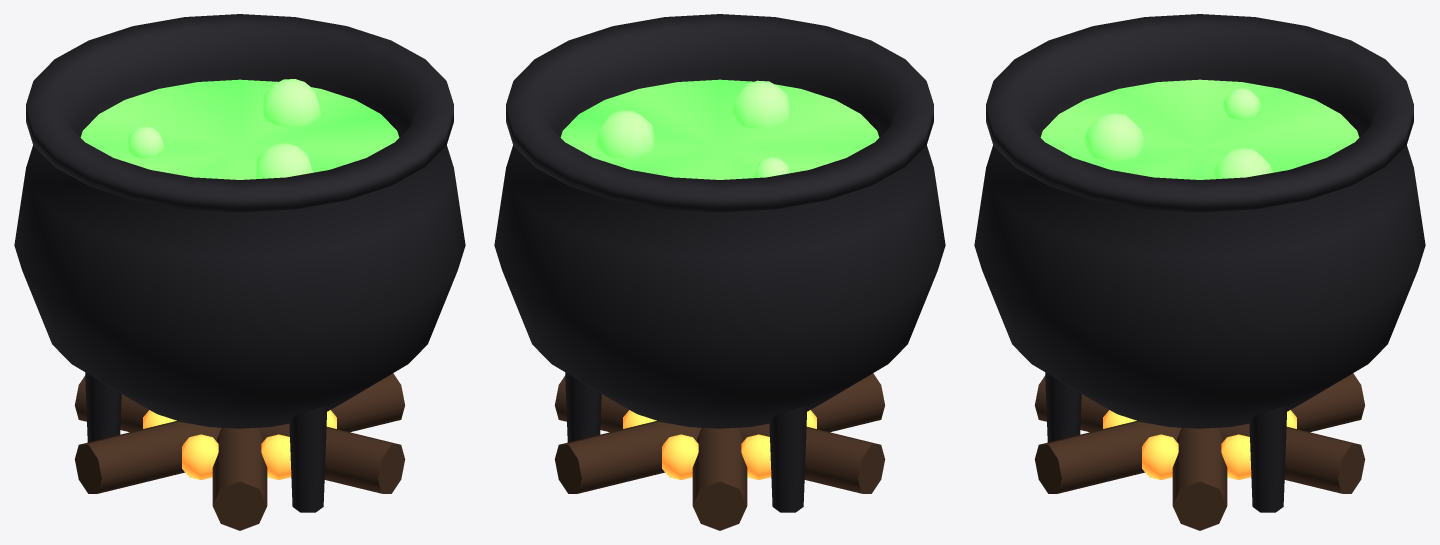
File: d7283384-1d48-48c8-b5f8-783de36ceb0c.glb
3 renders of one model, left to right at view 1: azimuth 30°, elevation 25°; view 2: azimuth 150°, elevation 25°; view 3: azimuth 270°, elevation 25°, orthographic.
Parts seen in each view (by area): view 1: Cauldron, Brew; view 2: Cauldron, Brew; view 3: Cauldron, Brew.
Part boxes in pixels (left/top/right/bottom): Cauldron: left=14, top=14, right=465, bottom=530; Brew: left=80, top=79, right=399, bottom=179; Cauldron: left=494, top=14, right=945, bottom=530; Brew: left=560, top=79, right=879, bottom=179; Cauldron: left=974, top=14, right=1425, bottom=530; Brew: left=1040, top=79, right=1359, bottom=179.
Bounding box in the file's own units: 1.16 × 1 × 1.16.
